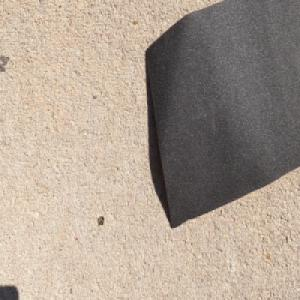PaintChip: (144, 0, 300, 229)
